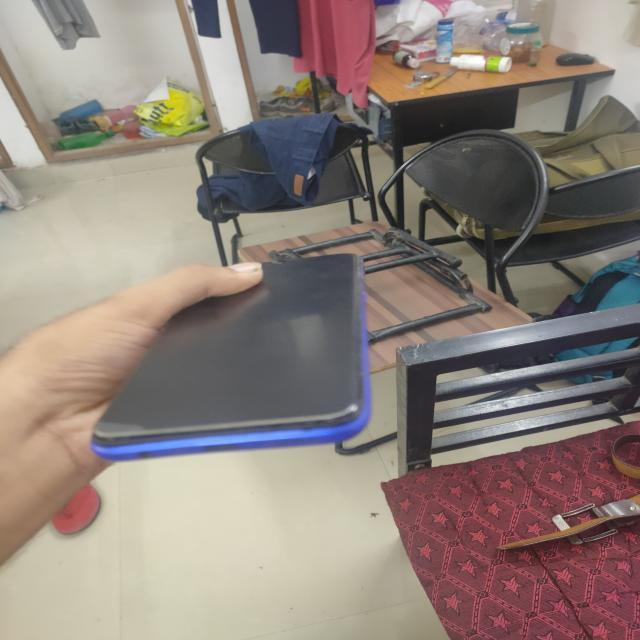Phone: (89, 252, 372, 465)
